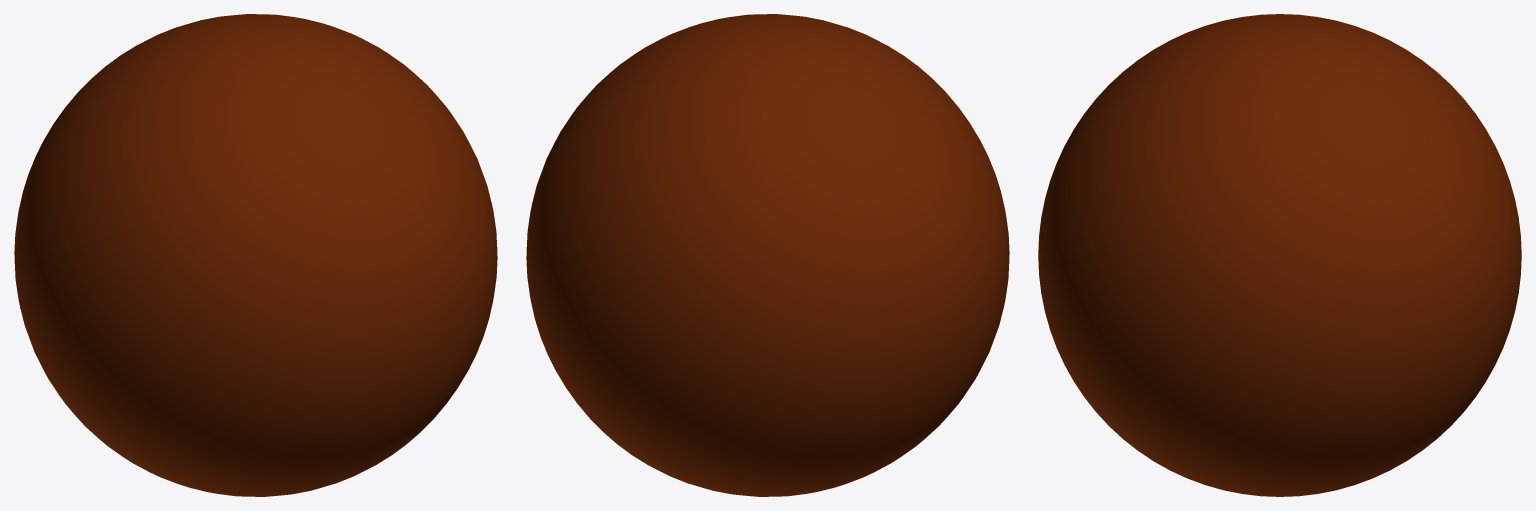
File: ball-dotted-6a2500.glb
3 views of the same model, side by side, from view 1: azimuth 30°, elevation 25°; view 2: azimuth 150°, elevation 25°; view 3: azimuth 270°, elevation 25° (orthographic).
Parts seen in each view (by area): view 1: ball; view 2: ball; view 3: ball.
Part boxes in pixels (left/top/right/bottom): ball: left=14, top=14, right=497, bottom=496; ball: left=526, top=14, right=1009, bottom=496; ball: left=1038, top=14, right=1521, bottom=496.
Bounding box in the file's own units: 0.0655 × 0.0655 × 0.0655.
